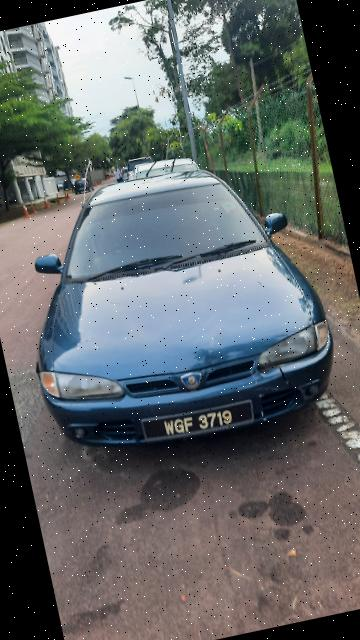License_Plate: (135, 391, 260, 454)
car: (1, 133, 354, 476)
